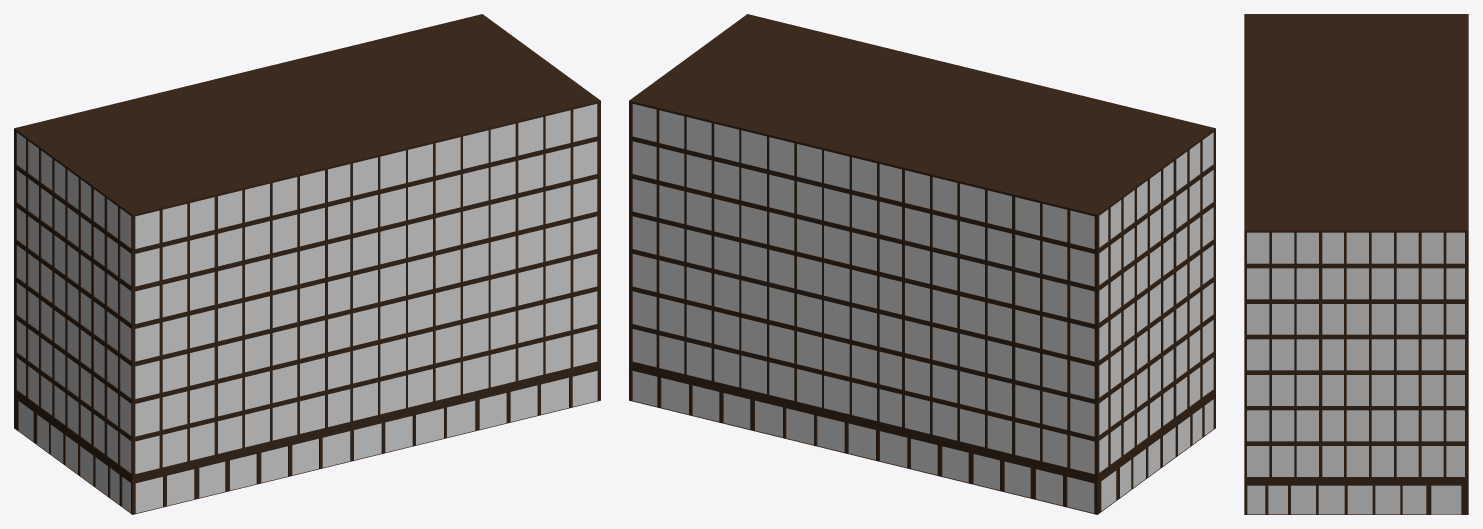
Rendered from building4.fbx.
The picture shows the model from 3 angles, left to right: view 1: azimuth 30°, elevation 25°; view 2: azimuth 150°, elevation 25°; view 3: azimuth 270°, elevation 25°; orthographic projection. The views are drawn at different scales.
Visible parts, largest first — view 1: Cube.017; view 2: Cube.017; view 3: Cube.017.
Part boxes in pixels (x1,y1,x2,y2): Cube.017: (14,14,600,514); Cube.017: (629,14,1215,514); Cube.017: (1244,14,1468,514).
Size of the model in its own units: 8940 by 5474 by 3913.
